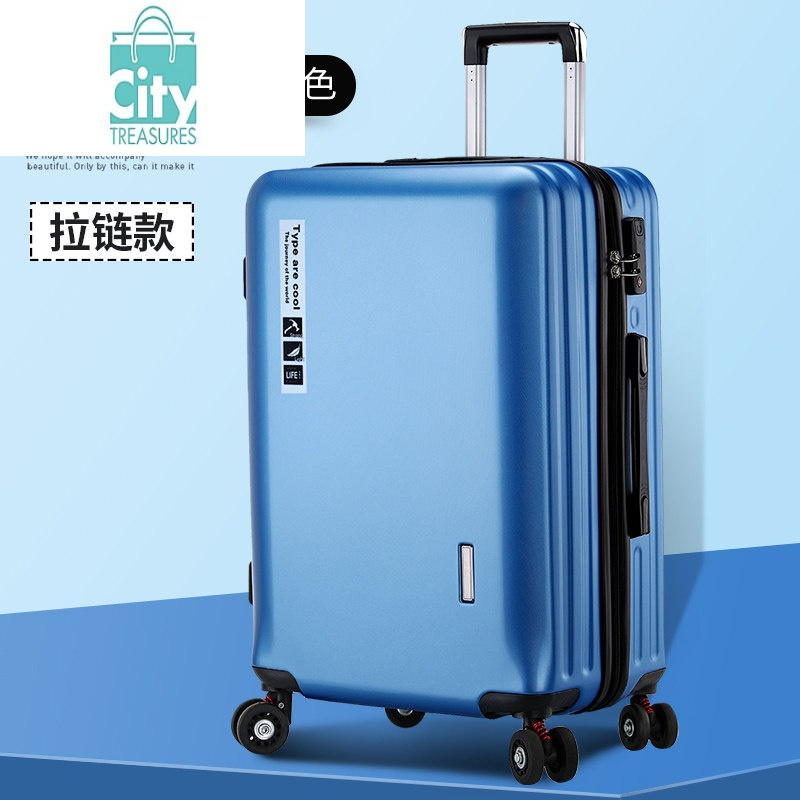box: (244, 161, 667, 718)
handle: (625, 332, 651, 538)
lock: (612, 216, 647, 298)
wheel: (508, 727, 579, 785), (231, 697, 291, 755), (618, 702, 678, 751), (385, 707, 425, 727)
